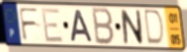A: (70, 9, 95, 44)
B: (91, 6, 116, 47)
D: (143, 8, 166, 48)
E: (40, 7, 65, 44)
F: (18, 7, 41, 43)
N: (119, 9, 145, 46)
